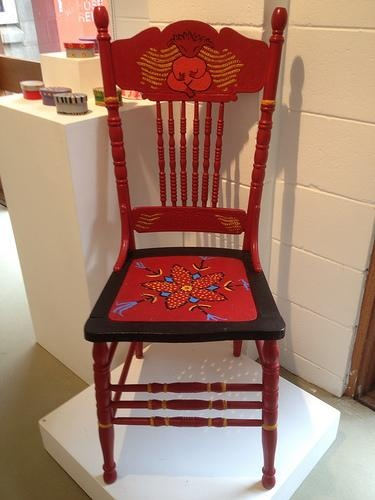obstacle: (85, 6, 286, 488)
